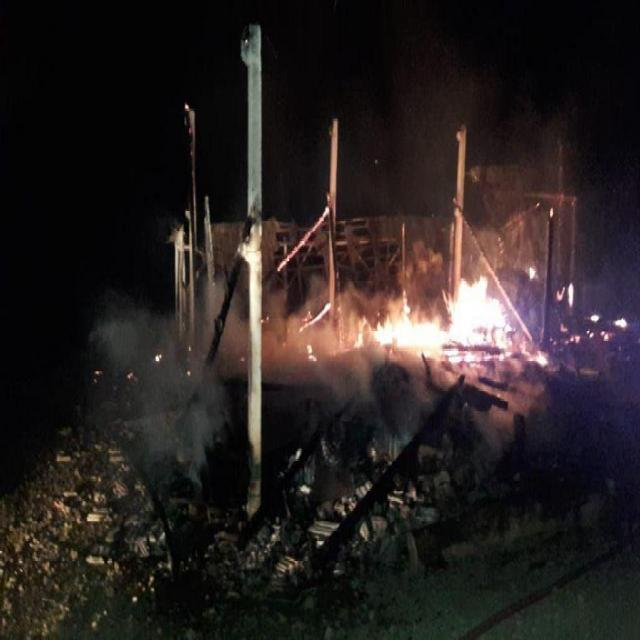fire: (341, 270, 519, 352)
